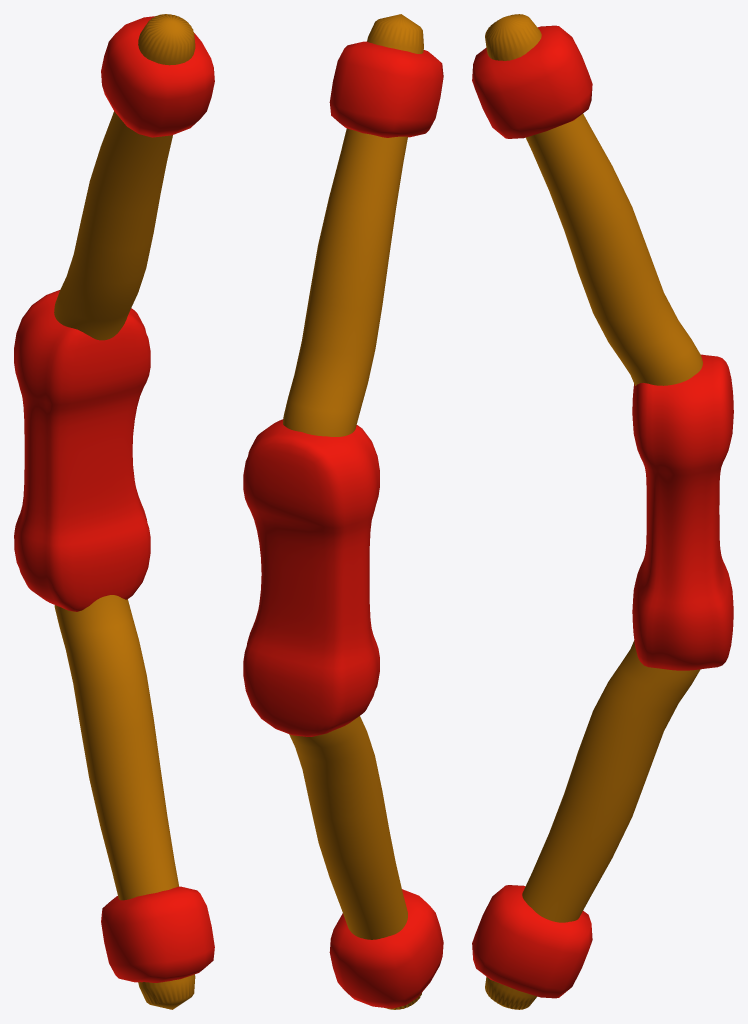
The model's file is Bow.glb.
The picture shows the model from 3 angles, left to right: view 1: azimuth 30°, elevation 25°; view 2: azimuth 150°, elevation 25°; view 3: azimuth 270°, elevation 25°; orthographic projection.
Visible parts, largest first — view 1: Cylinder, Cube, Cube.001; view 2: Cylinder, Cube, Cube.001; view 3: Cylinder, Cube, Cube.001.
Boxes of the visible parts, x1,y1,x2,y2 form: Cylinder: (54,14,195,1009); Cube: (14,290,150,611); Cube.001: (101,16,214,982); Cylinder: (283,14,423,1009); Cube: (243,419,379,736); Cube.001: (329,41,443,1008); Cylinder: (485,14,702,1009); Cube: (632,354,733,670); Cube.001: (472,25,592,998).
Bounding box in the file's own units: 2.72 × 21.03 × 5.05.
